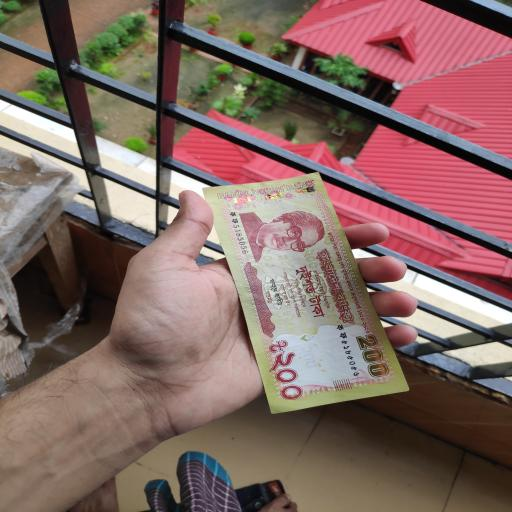200taka: (205, 172, 410, 417)
